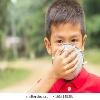Wearing Mask: (36, 0, 100, 100)
